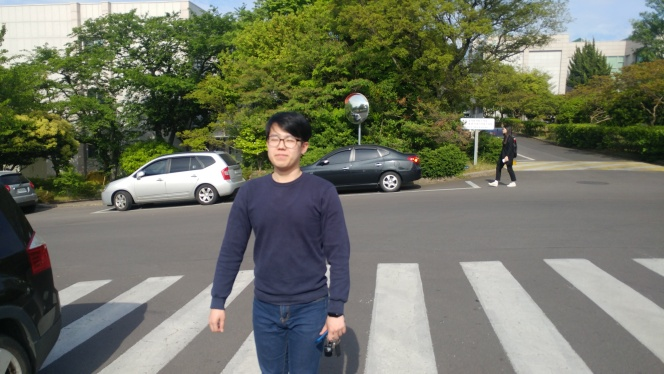KMG: (262, 108, 313, 178)
